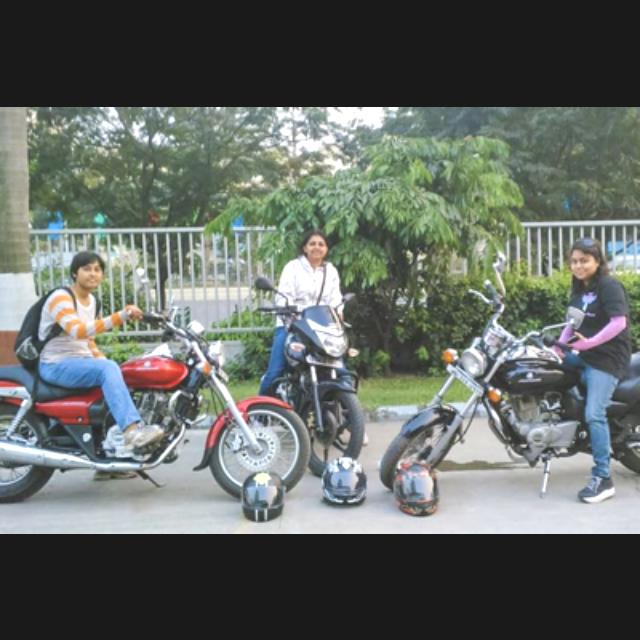Without Helmet: (68, 247, 104, 289), (570, 234, 604, 278), (299, 227, 331, 270)
